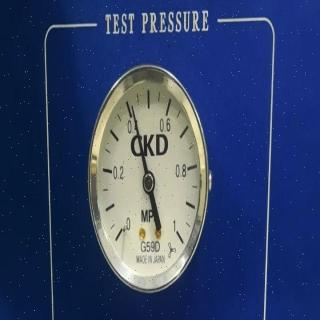gauge: (88, 48, 210, 318), (168, 224, 191, 249), (140, 171, 156, 193), (114, 225, 130, 246), (129, 105, 138, 116)
